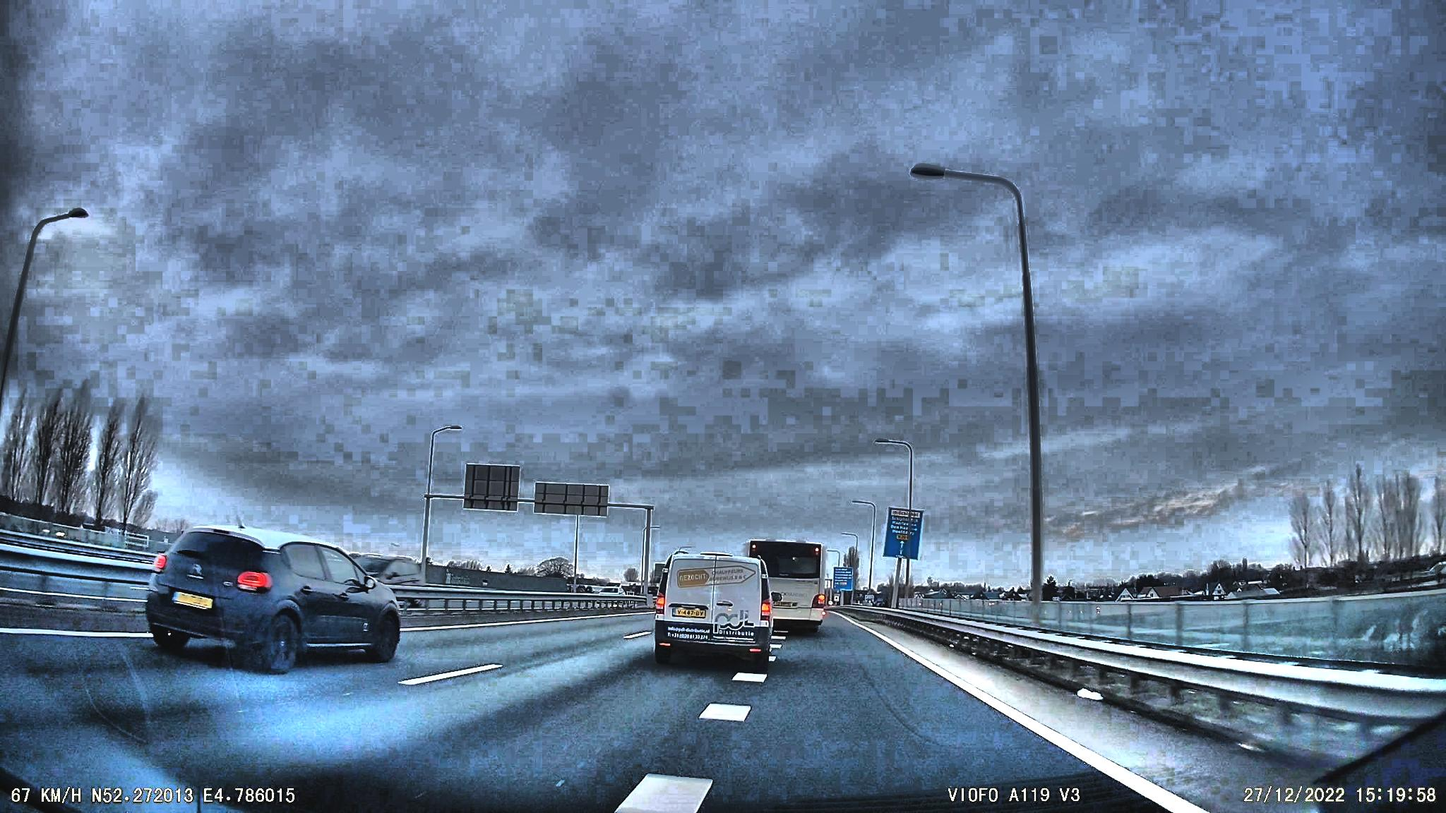Roads: (0, 614, 1270, 813)
